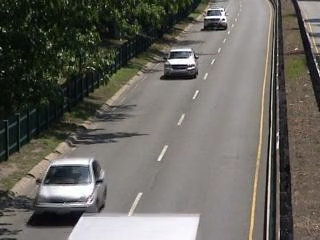car: (31, 156, 110, 220), (160, 46, 201, 82), (200, 5, 231, 32)
